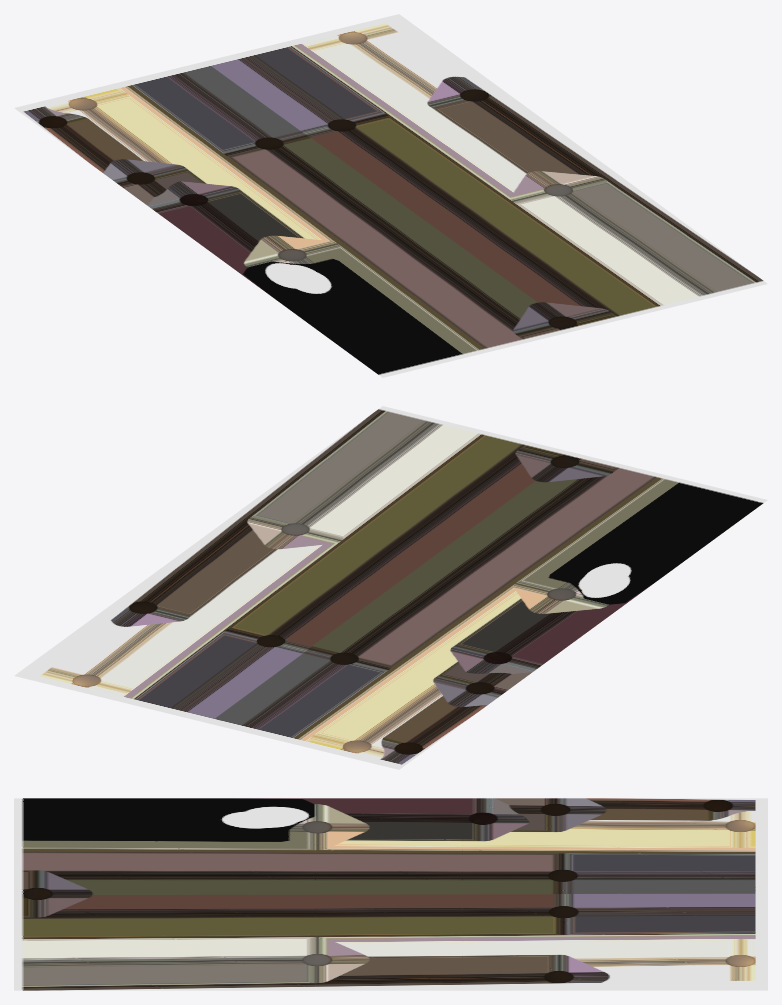
The model's file is inserts001.fbx.
3 renders of one model, top to bottom at view 1: azimuth 30°, elevation 25°; view 2: azimuth 150°, elevation 25°; view 3: azimuth 270°, elevation 25°, orthographic. The views are drawn at different scales.
Parts seen in each view (by area): view 1: inserts001; view 2: inserts001; view 3: inserts001.
Boxes of the visible parts, x1,y1,x2,y2 form: inserts001: (14, 14, 767, 377); inserts001: (14, 406, 767, 769); inserts001: (14, 798, 767, 990).
Bounding box in the file's own units: 40.91 × 1.92e-14 × 67.84.
Materials: 1 (1 with a texture image).
